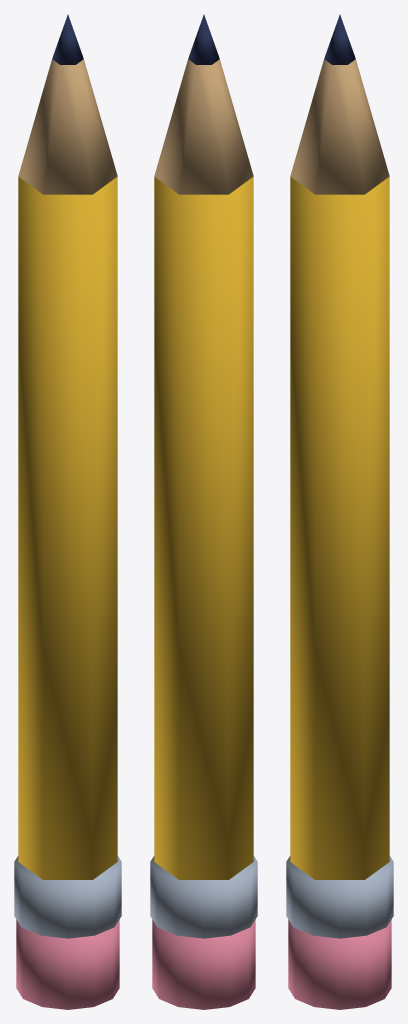
The model's file is pencil.glb.
3 renders of one model, left to right at view 1: azimuth 90°, elevation 25°; view 2: azimuth 150°, elevation 25°; view 3: azimuth 270°, elevation 25°, orthographic.
Parts seen in each view (by area): view 1: pencil; view 2: pencil; view 3: pencil.
Boxes of the visible parts, box(x1,y1,x2,y2) form: pencil: box(14, 14, 121, 1009); pencil: box(150, 14, 257, 1009); pencil: box(286, 14, 393, 1009).
Size of the model in its own units: 0.054 by 0.54 by 0.054.
